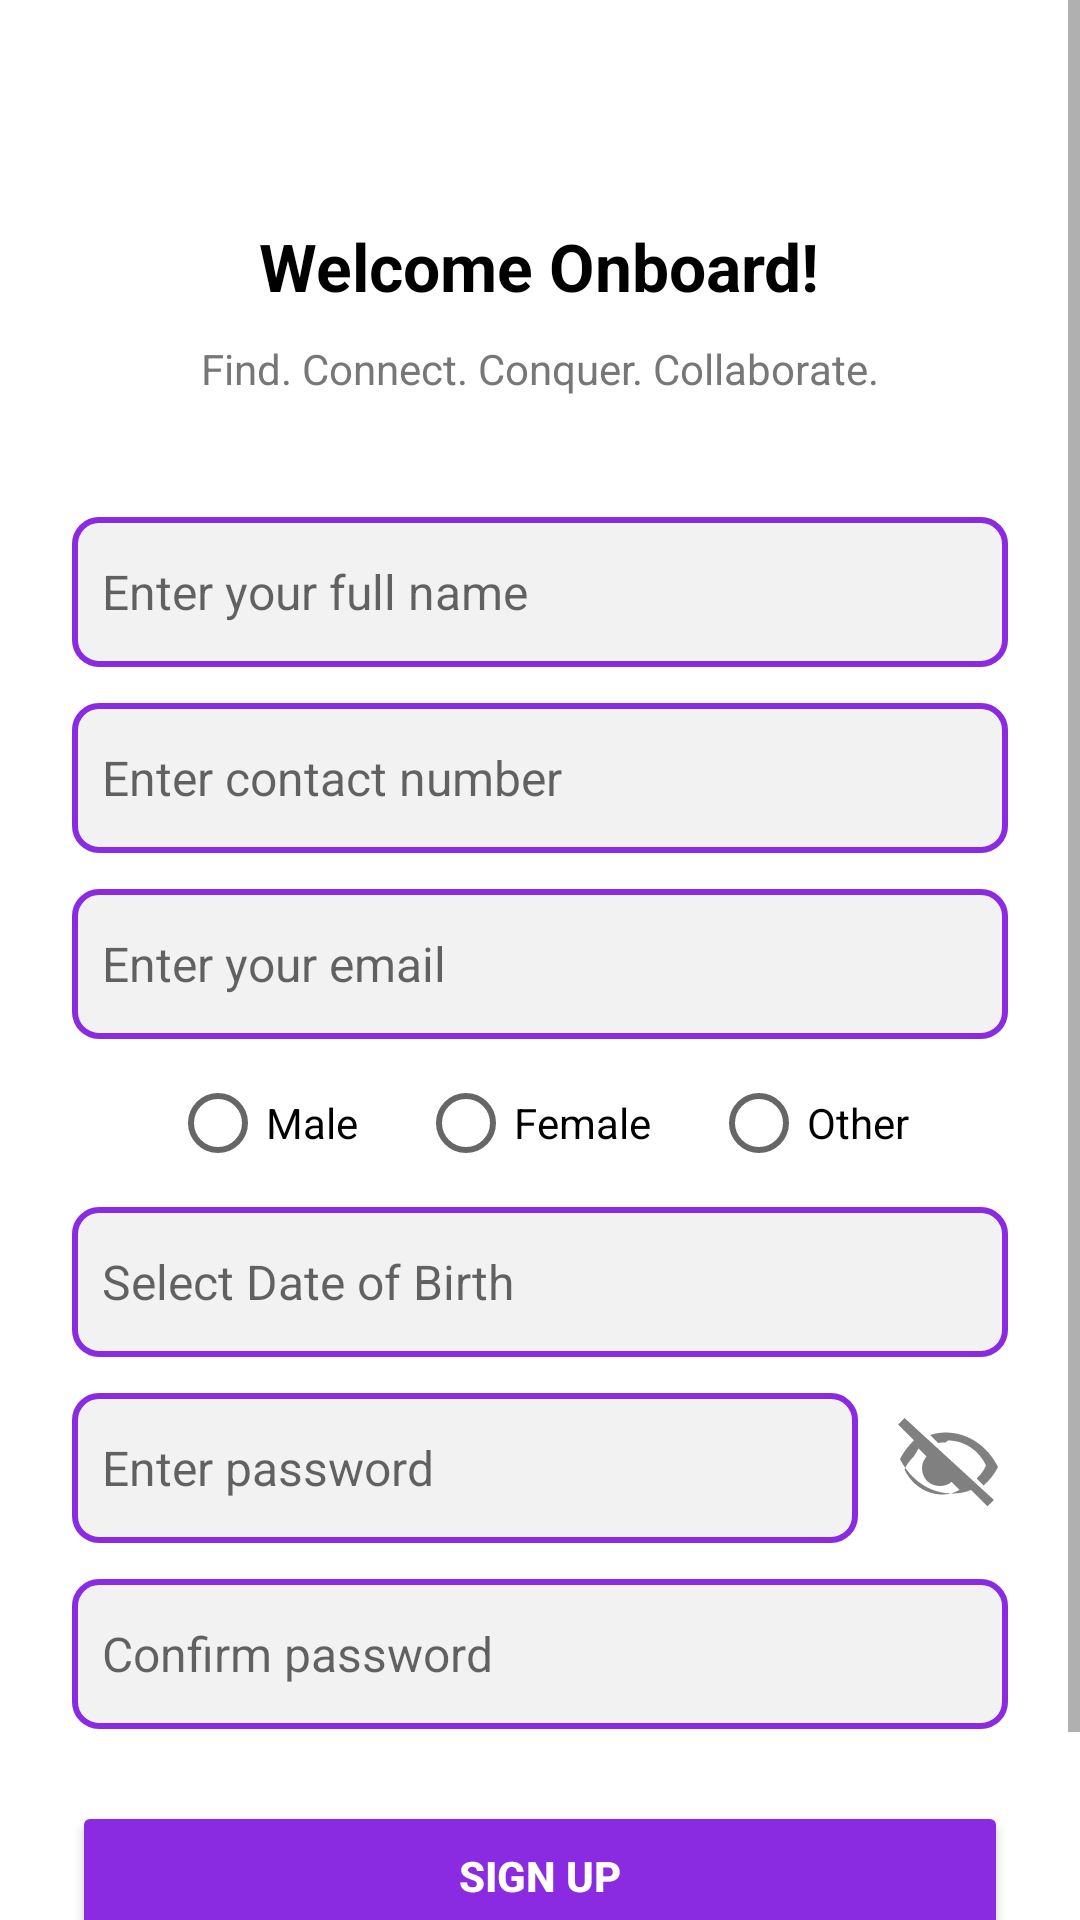

Locate icon controls on the screen. Image size 1080 × 1920, boxes as (x1=x1, y1=y1, x2=x2, y2=y2).
Eye icon to toggle password visibility: (x1=898, y1=1418, x2=998, y2=1506)
